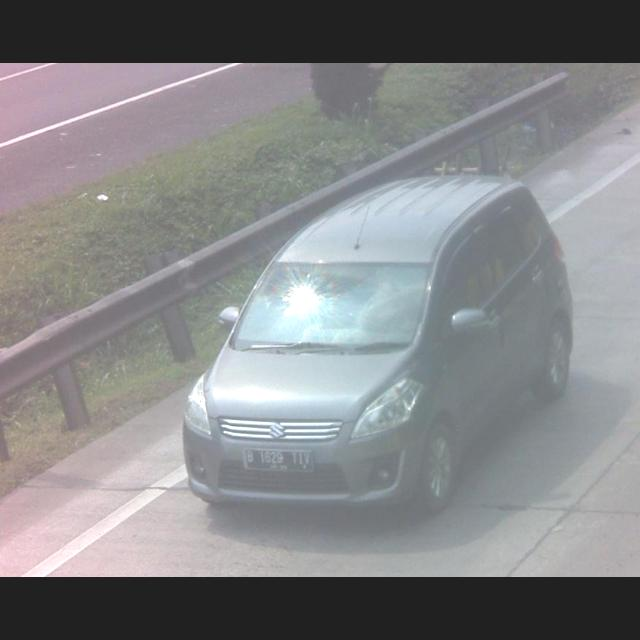plate: (242, 448, 314, 472)
